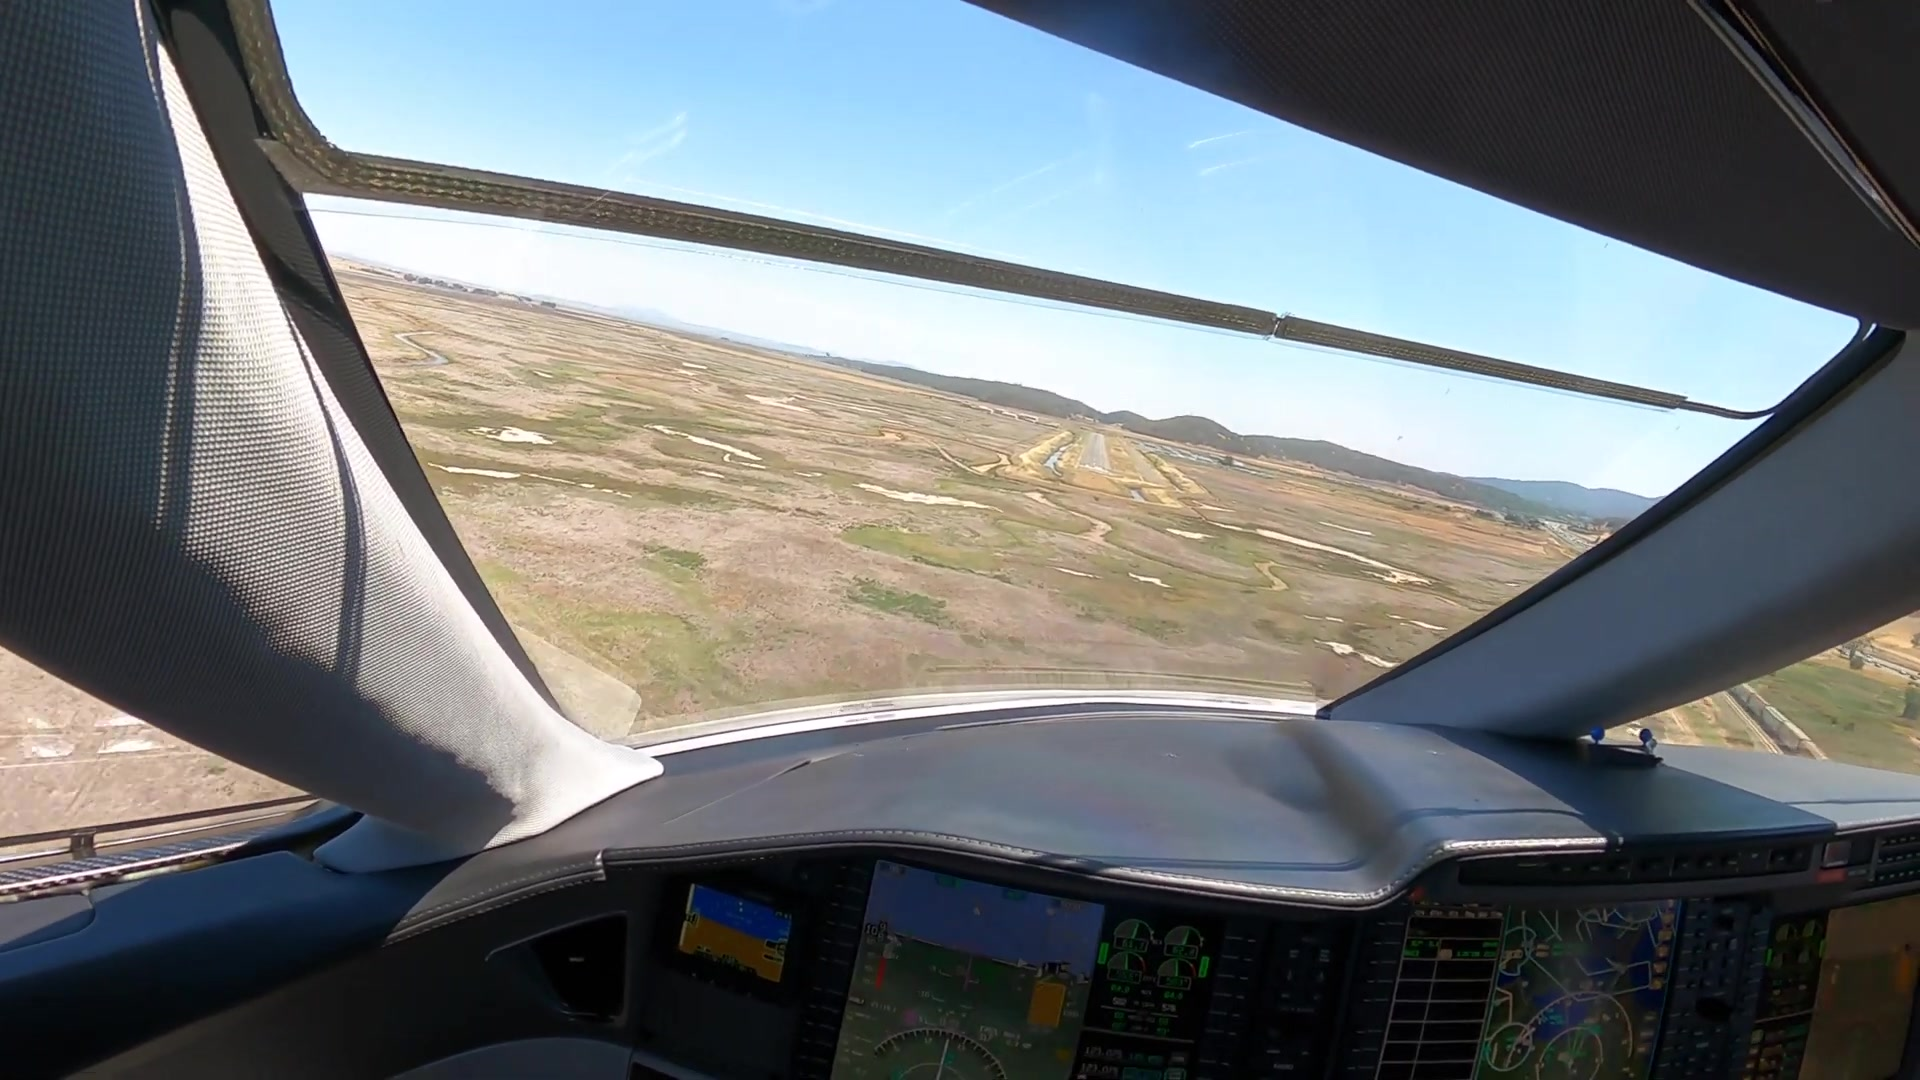runway: (1077, 433, 1109, 473)
